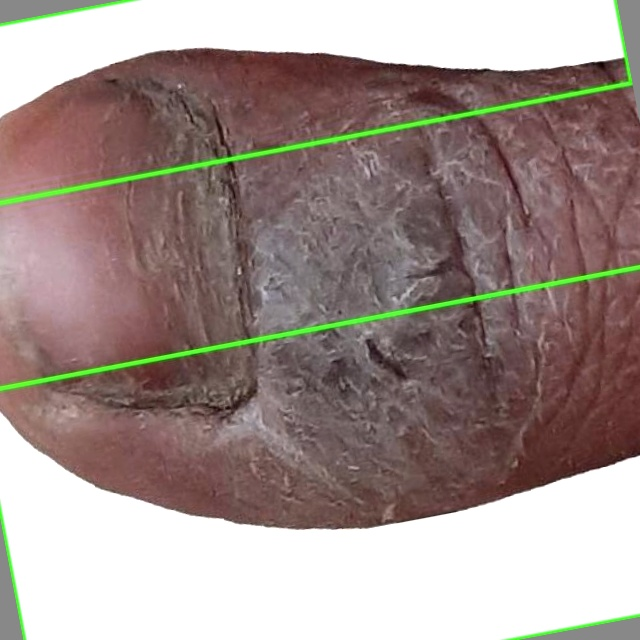Contact Dermatitis: (0, 265, 639, 639), (0, 0, 631, 203)
